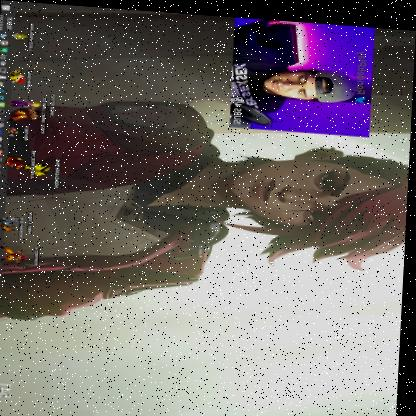streamer: (230, 37, 359, 120)
